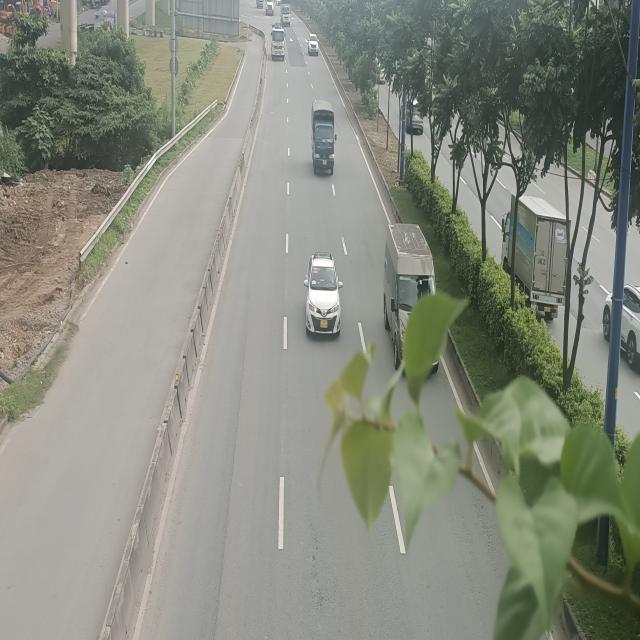car: (304, 252, 343, 338), (308, 34, 319, 55)
truck: (312, 99, 338, 179), (271, 23, 285, 61), (280, 0, 291, 27)
van: (384, 223, 437, 369)
